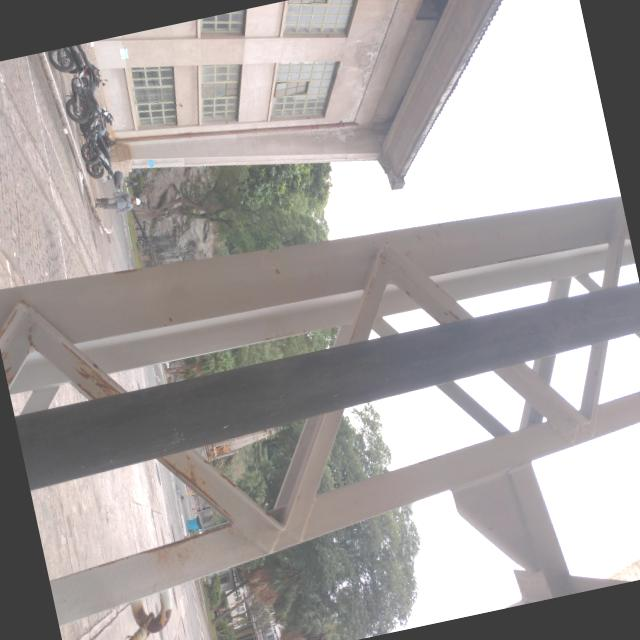gas: (13, 282, 640, 488)
